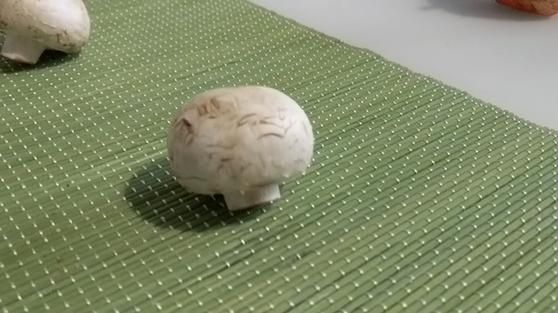champignon: (166, 85, 315, 210), (1, 1, 90, 66)
